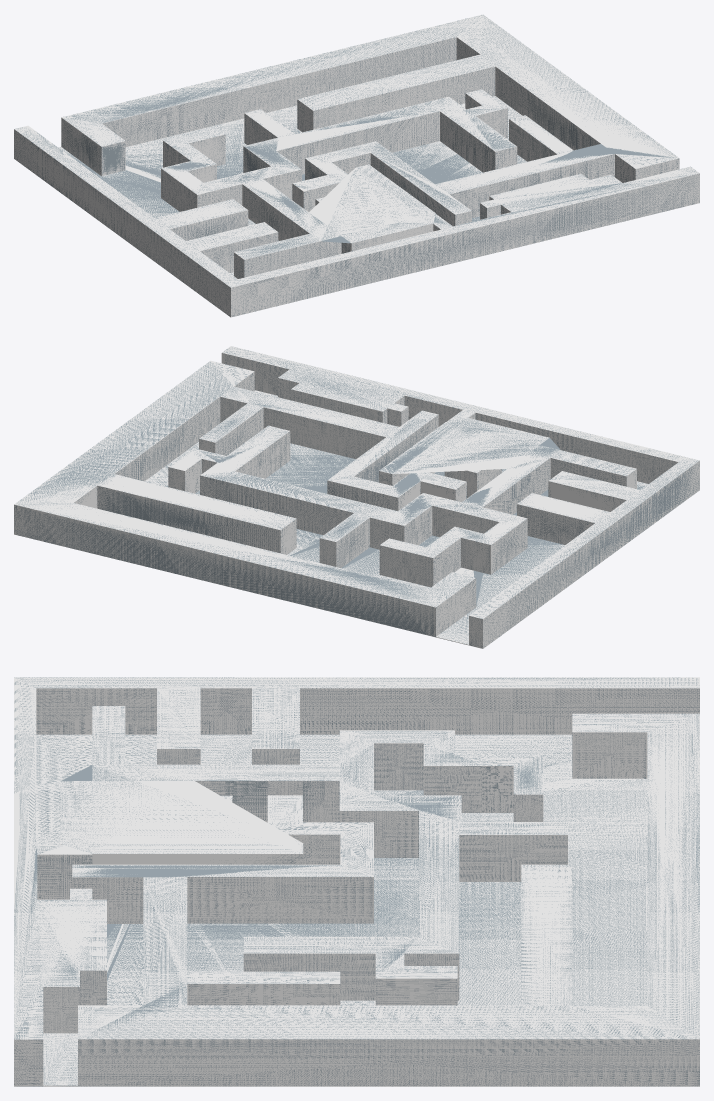
The model's file is maze1.fbx.
3 renders of one model, top to bottom at view 1: azimuth 30°, elevation 25°; view 2: azimuth 150°, elevation 25°; view 3: azimuth 270°, elevation 25°, orthographic. The views are drawn at different scales.
Parts seen in each view (by area): view 1: Model; view 2: Model; view 3: Model.
Part boxes in pixels (x1=…): Model: x1=14, y1=14, x2=699, y2=317; Model: x1=14, y1=346, x2=699, y2=648; Model: x1=14, y1=677, x2=699, y2=1086.
Bounding box in the file's own units: 359 × 22.12 × 287.
